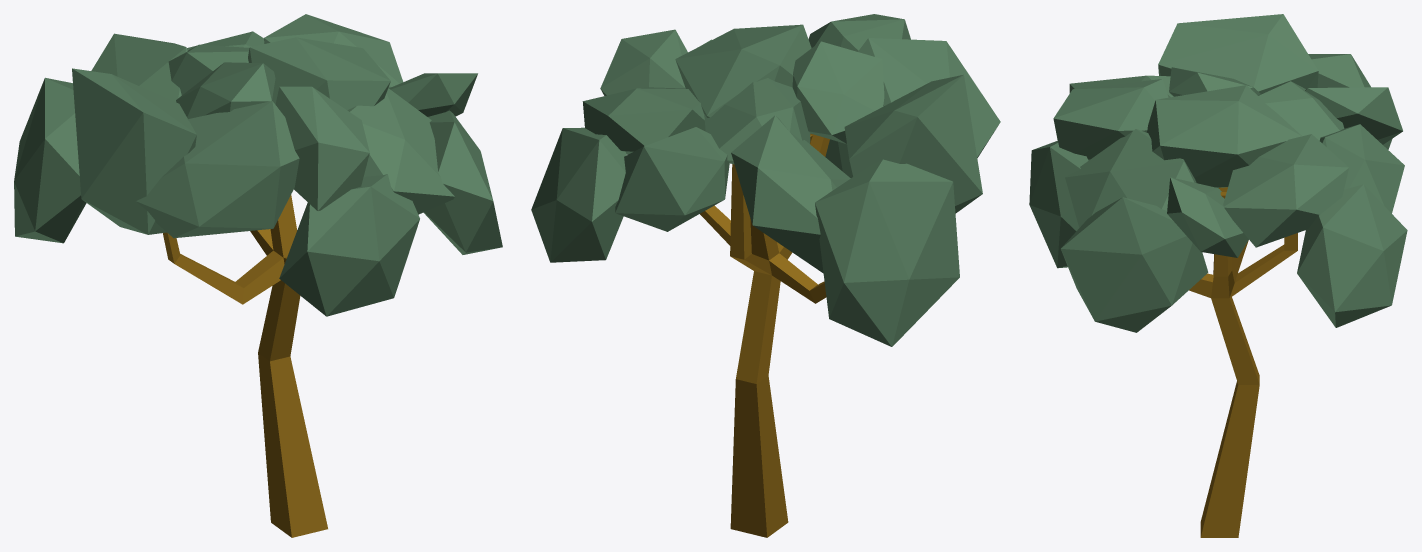
Rendered from GrasslandsTreeType11.fbx.
3 views of the same model, side by side, from view 1: azimuth 30°, elevation 25°; view 2: azimuth 150°, elevation 25°; view 3: azimuth 270°, elevation 25° (orthographic). The views are drawn at different scales.
Parts seen in each view (by area): view 1: GrasslandsTreeType11; view 2: GrasslandsTreeType11; view 3: GrasslandsTreeType11.
Boxes of the visible parts, box(x1,y1,x2,y2) form: GrasslandsTreeType11: box(14, 14, 502, 537); GrasslandsTreeType11: box(531, 14, 1000, 537); GrasslandsTreeType11: box(1029, 14, 1407, 537).
Size of the model in its own units: 4.34 by 5.09 by 4.
